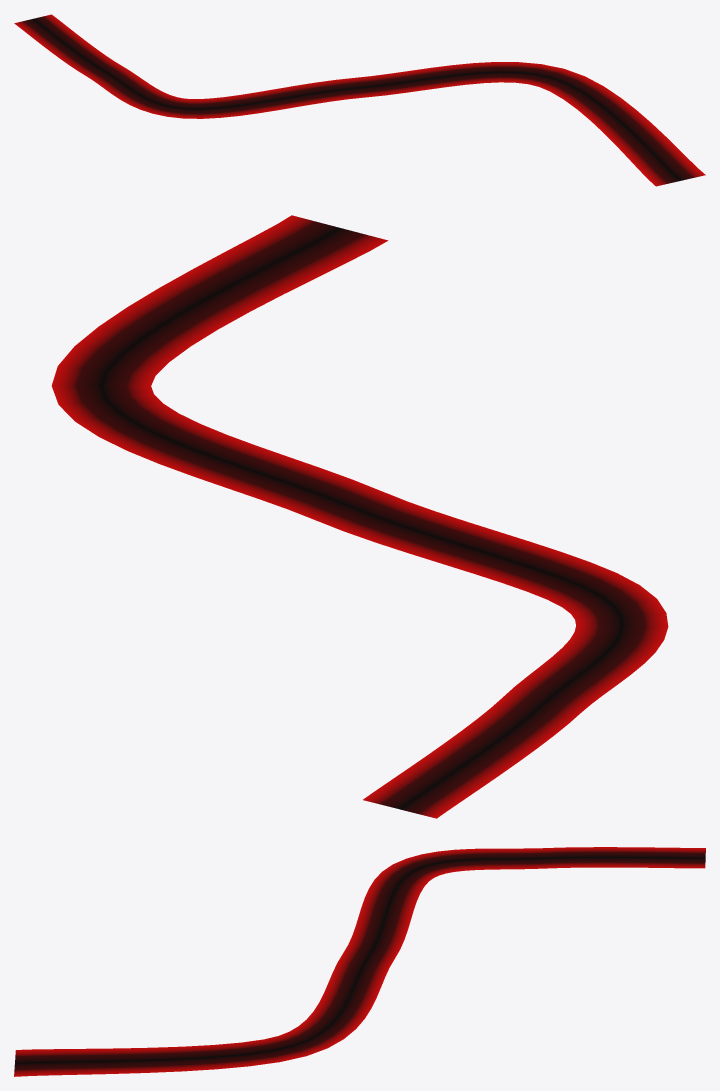
Rendered from Waterfall_Exit_Runoff.fbx.
The picture shows the model from 3 angles, top to bottom: view 1: azimuth 30°, elevation 25°; view 2: azimuth 150°, elevation 25°; view 3: azimuth 270°, elevation 25°; orthographic projection. The views are drawn at different scales.
Parts seen in each view (by area): view 1: Waterfall_Exit_Runoff; view 2: Waterfall_Exit_Runoff; view 3: Waterfall_Exit_Runoff.
Boxes of the visible parts, x1=… form: Waterfall_Exit_Runoff: x1=14, y1=14, x2=705, y2=186; Waterfall_Exit_Runoff: x1=51, y1=215, x2=668, y2=818; Waterfall_Exit_Runoff: x1=14, y1=847, x2=705, y2=1076.
Bounding box in the file's own units: 7.93 × 0.355 × 10.89.
